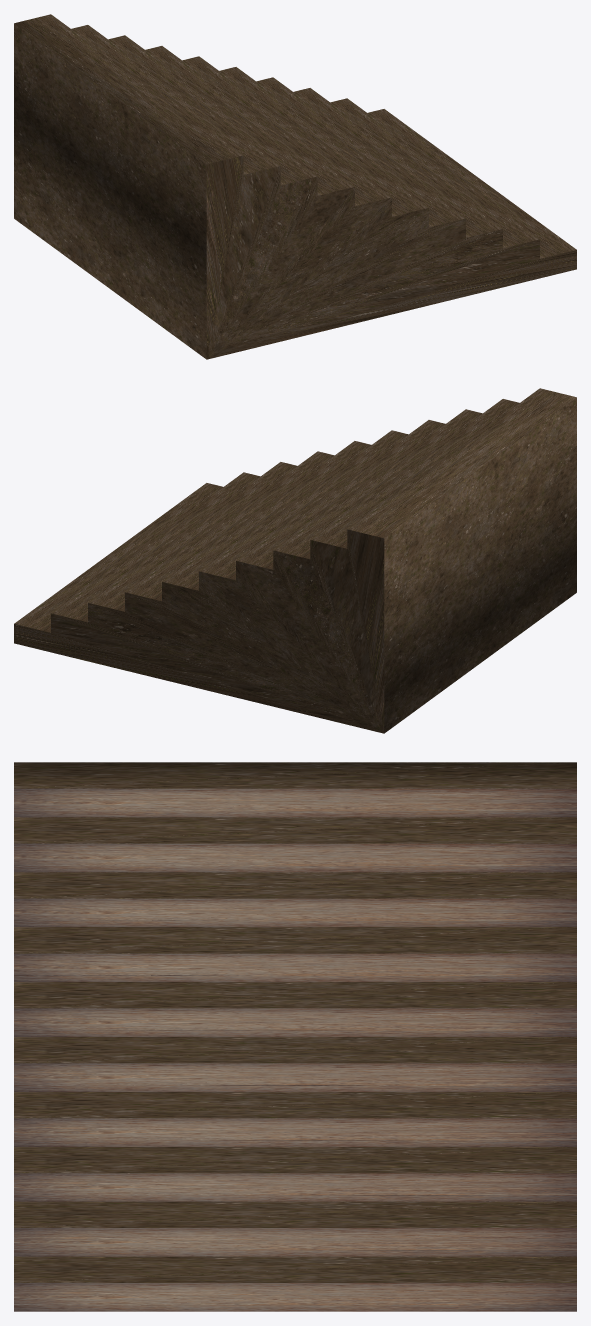
The model's file is Escalier.fbx.
3 renders of one model, top to bottom at view 1: azimuth 30°, elevation 25°; view 2: azimuth 150°, elevation 25°; view 3: azimuth 270°, elevation 25°, orthographic. The views are drawn at different scales.
Parts seen in each view (by area): view 1: Escalier; view 2: Escalier; view 3: Escalier.
Boxes of the visible parts, left/top/right/bottom form: Escalier: left=14, top=14, right=576, bottom=359; Escalier: left=14, top=388, right=576, bottom=733; Escalier: left=14, top=762, right=576, bottom=1311.
Bounding box in the file's own units: 223 × 112 × 201.
